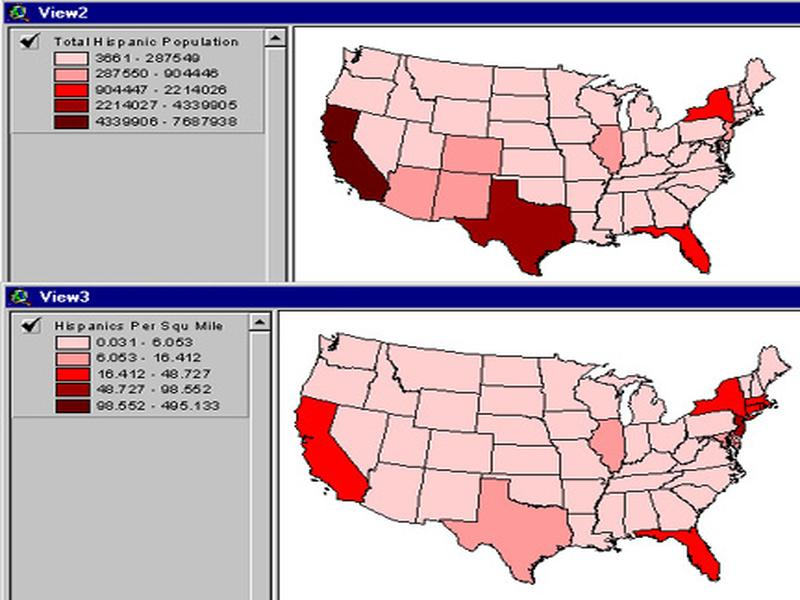legend: (50, 33, 242, 130), (50, 319, 227, 416)
